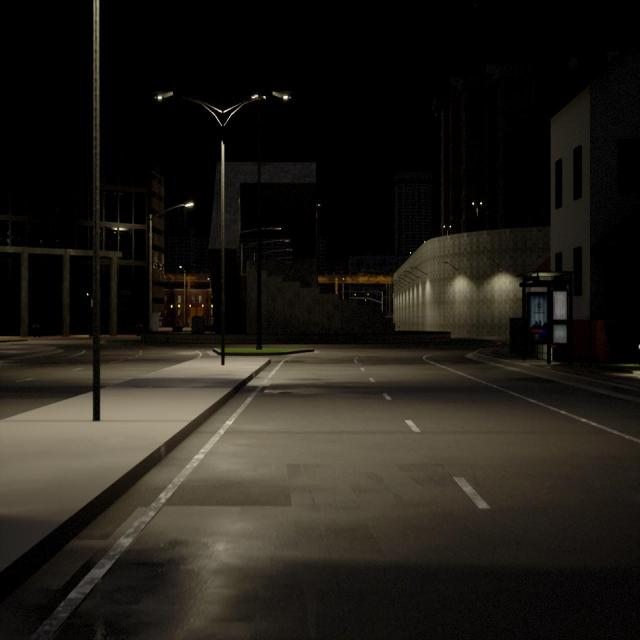traffic_light: (354, 293, 356, 296), (365, 299, 367, 301), (367, 293, 369, 295)
